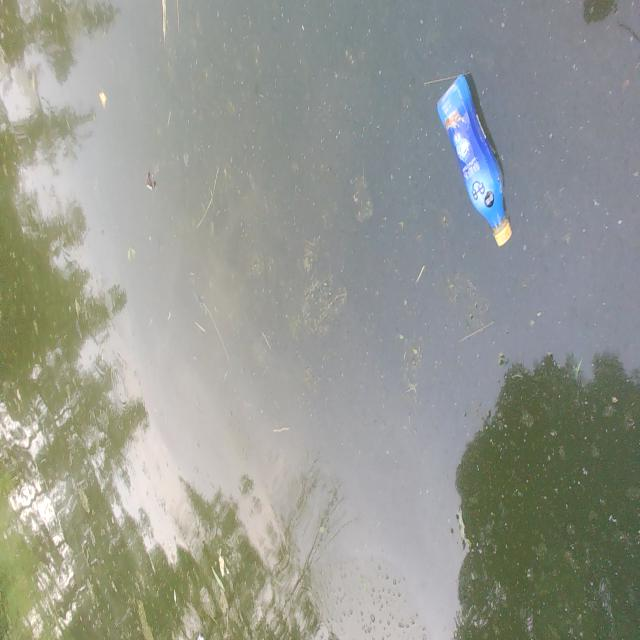bottle: (422, 47, 514, 258)
